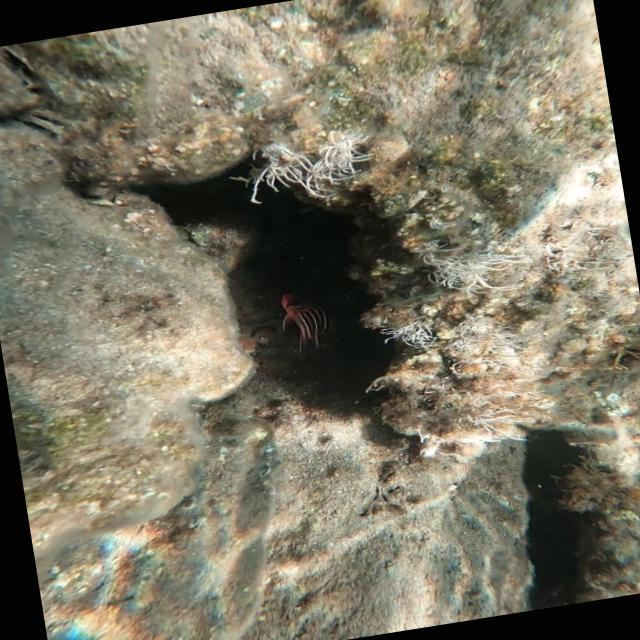Asker Baligi: (268, 278, 331, 356)
